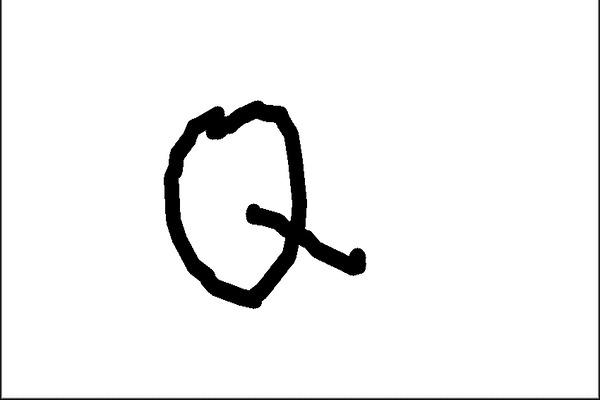Q: (152, 91, 375, 317)
